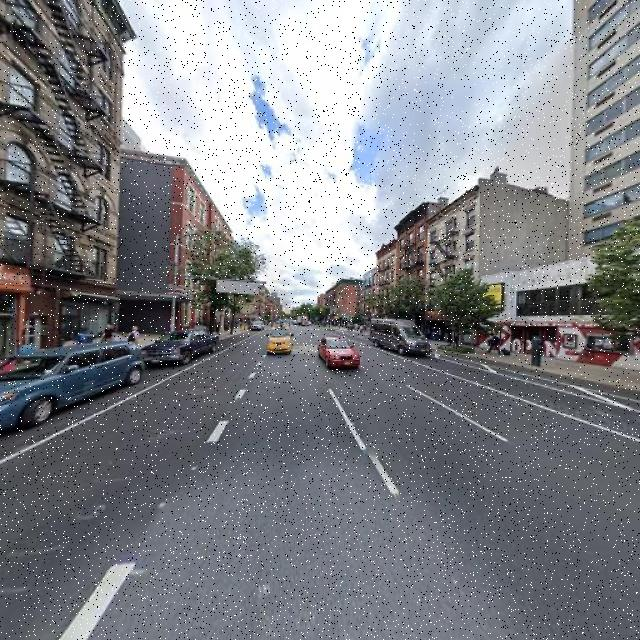Building: (1, 1, 114, 364), (569, 1, 640, 372), (182, 159, 234, 337), (430, 187, 475, 347), (398, 200, 428, 339), (377, 242, 395, 334)
